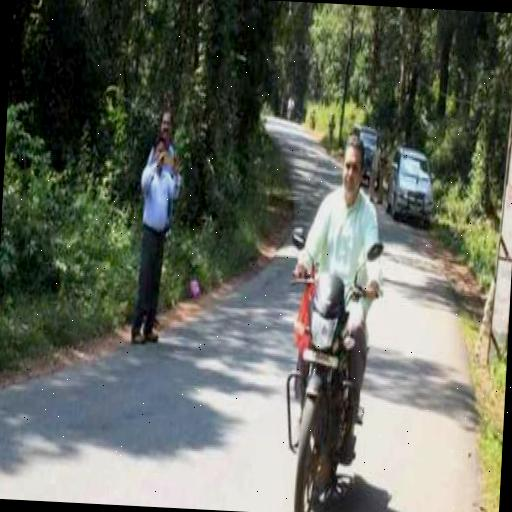no helmet: (274, 114, 389, 452)
